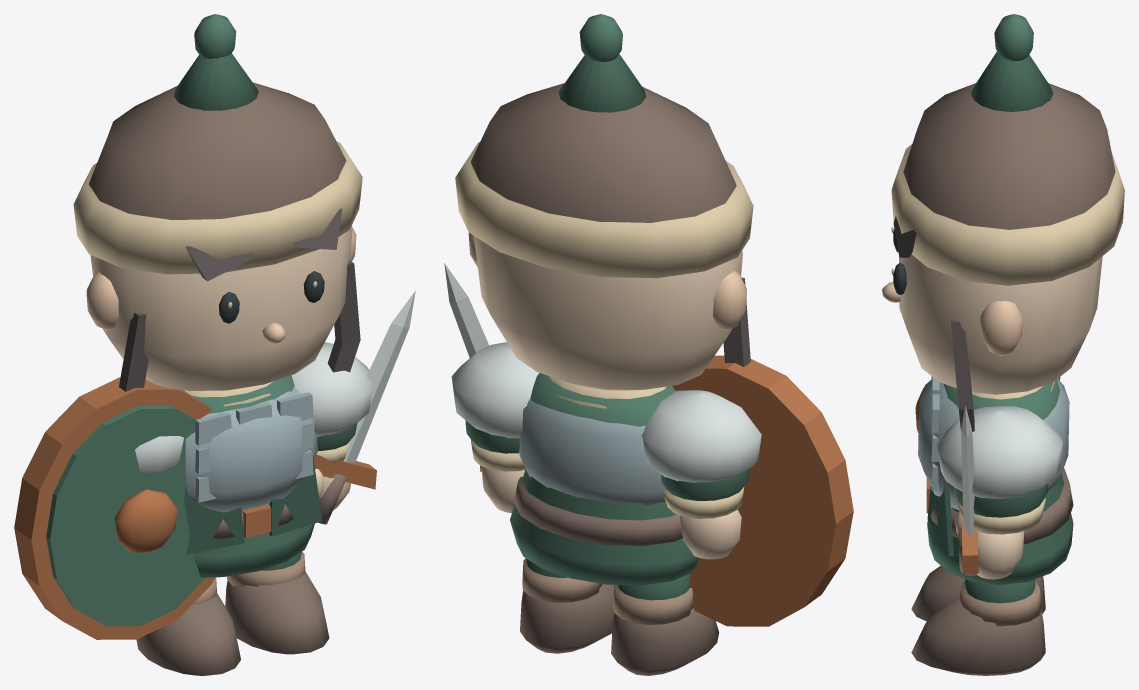
The model's file is guard.glb.
3 renders of one model, left to right at view 1: azimuth 30°, elevation 25°; view 2: azimuth 150°, elevation 25°; view 3: azimuth 270°, elevation 25°, orthographic. The views are drawn at different scales.
Visible parts, largest first — view 1: Regional helmet, Soft cheek head, Regional shield face, Fur hat brim, Shield gold rim, Rounded breastplate, Round leather boot.001, Round leather boot, Short folded tunic, Big shoulder armour.001, Mongol pointed cap, Shield boss (+18 smaller); view 2: Shield gold rim, Regional helmet, Soft cheek head, Fur hat brim, Short folded tunic, Rounded breastplate, Big shoulder armour, Big shoulder armour.001, Round leather boot, Round leather boot.001, Broad leather belt, Mongol pointed cap (+14 smaller); view 3: Regional helmet, Soft cheek head, Fur hat brim, Big shoulder armour.001, Round leather boot.001, Short folded tunic, Rounded breastplate, Mongol pointed cap, Ear.001, Little mitten.001, Boot turn cuff.001, Round leather boot (+11 smaller).
Part boxes in pixels (x1=…): Regional helmet: x1=89, y1=82, x2=346, y2=219; Soft cheek head: x1=90, y1=226, x2=352, y2=390; Regional shield face: x1=46, y1=406, x2=204, y2=626; Fur hat brim: x1=73, y1=141, x2=362, y2=274; Shield gold rim: x1=14, y1=377, x2=214, y2=639; Rounded breastplate: x1=185, y1=386, x2=318, y2=512; Round leather boot.001: x1=225, y1=571, x2=329, y2=654; Round leather boot: x1=136, y1=592, x2=240, y2=675; Short folded tunic: x1=193, y1=375, x2=314, y2=577; Big shoulder armour.001: x1=291, y1=342, x2=373, y2=436; Mongol pointed cap: x1=174, y1=53, x2=258, y2=110; Shield boss: x1=114, y1=489, x2=177, y2=553; Shield gold rim: x1=672, y1=355, x2=853, y2=626; Regional helmet: x1=471, y1=83, x2=736, y2=222; Soft cheek head: x1=474, y1=236, x2=742, y2=390; Fur hat brim: x1=455, y1=142, x2=753, y2=278; Short folded tunic: x1=510, y1=373, x2=698, y2=585; Rounded breastplate: x1=519, y1=398, x2=666, y2=505; Big shoulder armour: x1=641, y1=390, x2=761, y2=482; Big shoulder armour.001: x1=451, y1=342, x2=539, y2=438; Round leather boot: x1=611, y1=608, x2=719, y2=675; Round leather boot.001: x1=520, y1=584, x2=614, y2=653; Broad leather belt: x1=514, y1=476, x2=682, y2=545; Mongol pointed cap: x1=558, y1=54, x2=645, y2=112; Regional helmet: x1=903, y1=83, x2=1115, y2=229; Soft cheek head: x1=898, y1=254, x2=1102, y2=394; Fur hat brim: x1=891, y1=144, x2=1124, y2=285; Big shoulder armour.001: x1=936, y1=406, x2=1062, y2=498; Round leather boot.001: x1=911, y1=596, x2=1045, y2=675; Short folded tunic: x1=927, y1=379, x2=1073, y2=584; Rounded breastplate: x1=918, y1=379, x2=1069, y2=510; Mongol pointed cap: x1=971, y1=52, x2=1053, y2=111; Ear.001: x1=979, y1=301, x2=1023, y2=355; Little mitten.001: x1=977, y1=531, x2=1024, y2=579; Boot turn cuff.001: x1=959, y1=581, x2=1042, y2=626; Round leather boot: x1=911, y1=565, x2=1045, y2=621.
Bounding box in the file's own units: 1.15 × 1.75 × 0.614.
